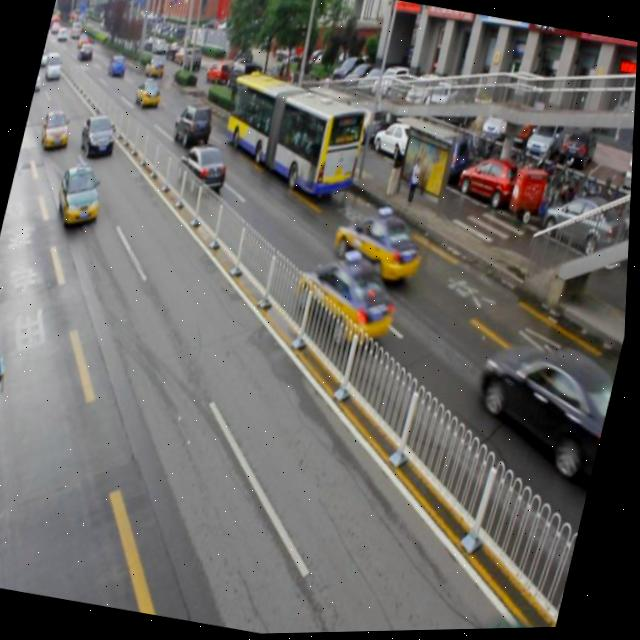car: (464, 334, 624, 484), (287, 244, 407, 352), (329, 199, 432, 291), (54, 160, 110, 229), (174, 140, 233, 199), (171, 99, 217, 152), (79, 113, 121, 161), (39, 110, 76, 153)
van: (214, 67, 374, 206)
